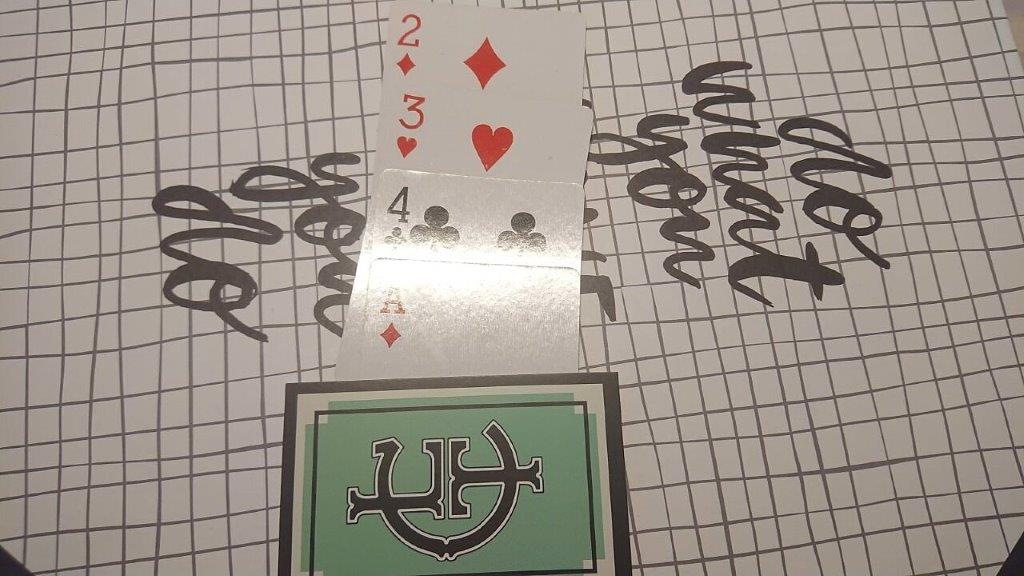2D: (392, 11, 424, 79)
3H: (393, 89, 427, 162)
4C: (381, 183, 414, 255)
AD: (375, 276, 407, 354)
